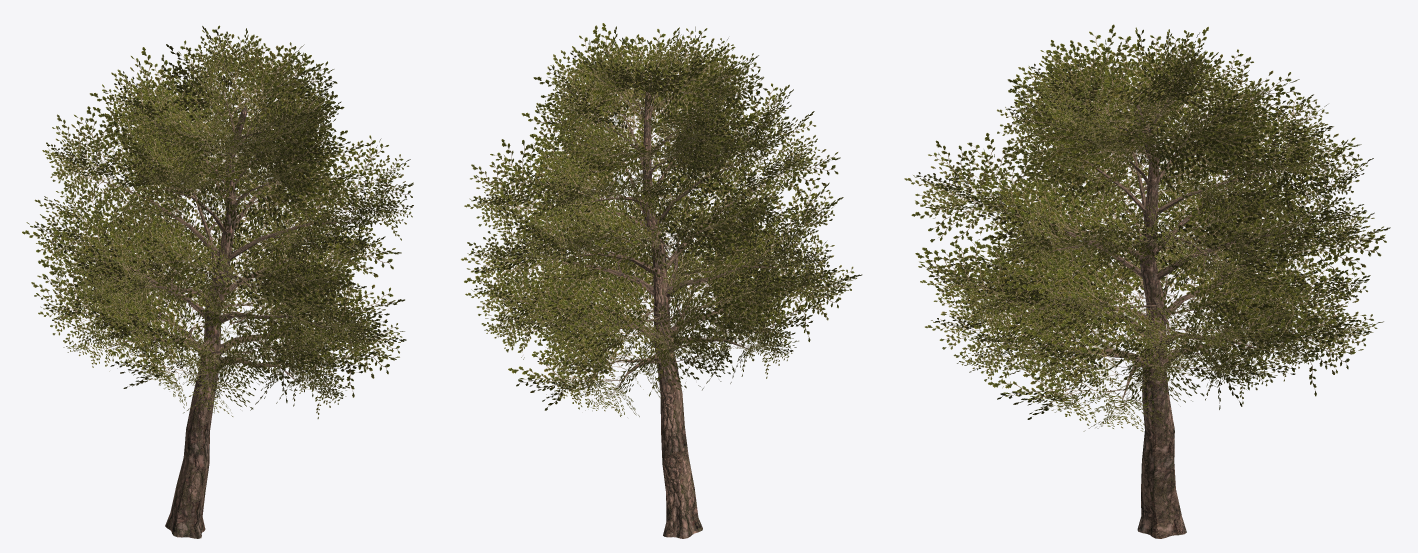
File: Oak.fbx
The picture shows the model from 3 angles, left to right: view 1: azimuth 30°, elevation 25°; view 2: azimuth 150°, elevation 25°; view 3: azimuth 270°, elevation 25°; orthographic projection. The views are drawn at different scales.
Parts seen in each view (by area): view 1: Oak; view 2: Oak; view 3: Oak.
Part boxes in pixels (x1,y1,x2,y2): Oak: [22, 25, 413, 538]; Oak: [461, 23, 862, 538]; Oak: [904, 24, 1390, 538].
Size of the model in its own units: 684 by 957 by 850.
